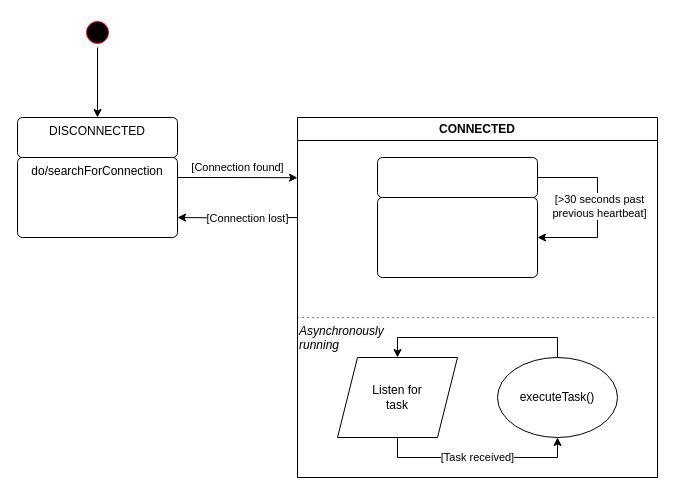
The diagram is 675 pixels wide and 495 high, and some of its shapes have lost their labels. Each missing label, with the centre of its shape:
entry/checkHeartbeat: pixel 457 237
IDLE: pixel 457 177
